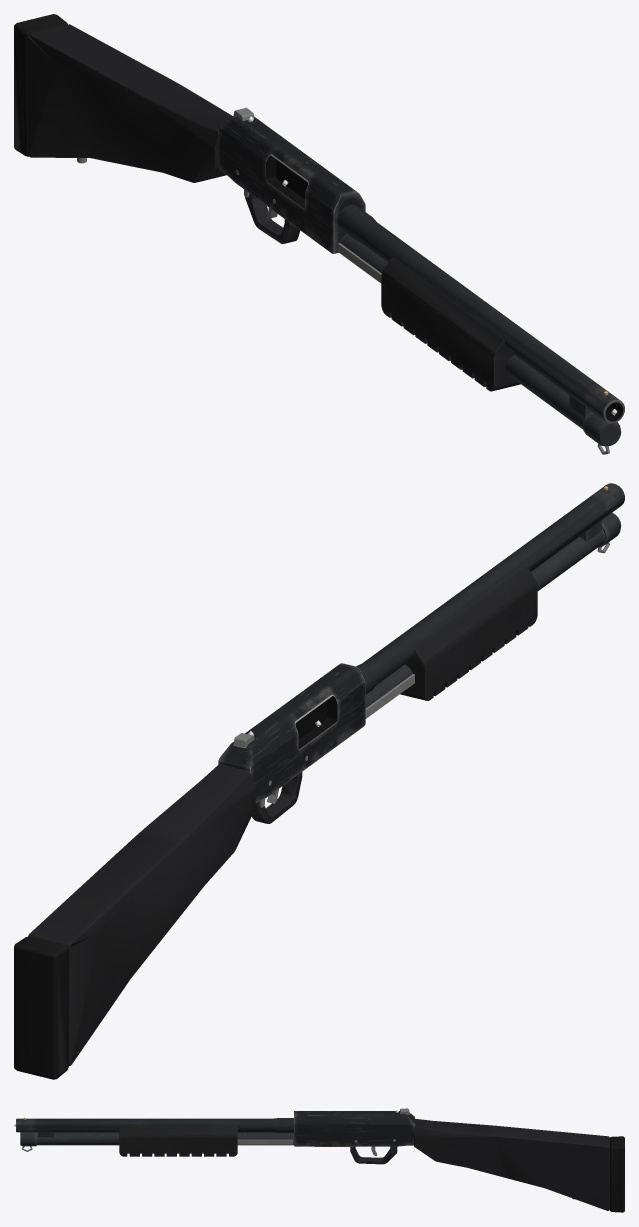
Rendered from Shotgun_Pump_M500.fbx.
3 views of the same model, one above another, from view 1: azimuth 30°, elevation 25°; view 2: azimuth 150°, elevation 25°; view 3: azimuth 270°, elevation 25° (orthographic). The views are drawn at different scales.
Parts seen in each view (by area): view 1: Handle, Pump; view 2: Handle, Pump; view 3: Handle, Pump.
Part boxes in pixels (<box>): Handle: <box>14,14,624,454</box>; Pump: <box>338,243,520,391</box>; Handle: <box>14,483,624,1079</box>; Pump: <box>365,567,537,718</box>; Handle: <box>16,1108,624,1212</box>; Pump: <box>119,1126,293,1156</box>.
Bounding box in the file's own units: 0.1573 × 0.6403 × 3.61.
Materials: 2 (1 with a texture image).
